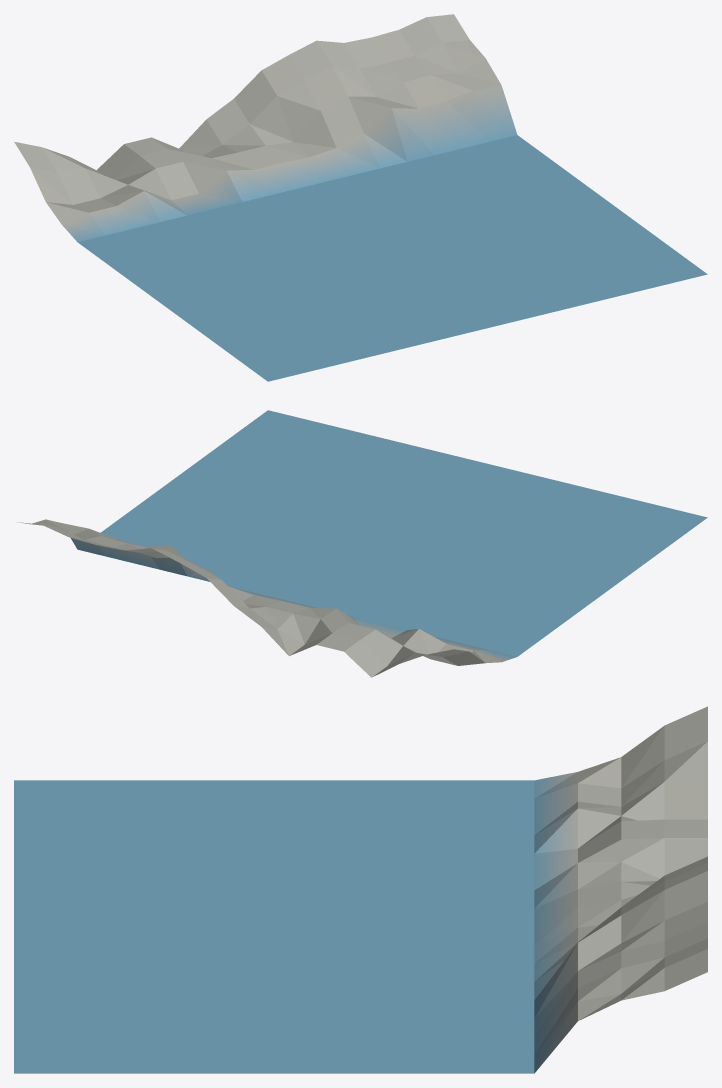
3 views of the same model, one above another, from view 1: azimuth 30°, elevation 25°; view 2: azimuth 150°, elevation 25°; view 3: azimuth 270°, elevation 25° (orthographic). The views are drawn at different scales.
Size of the model in its own units: 32 by 5.66 by 32.
